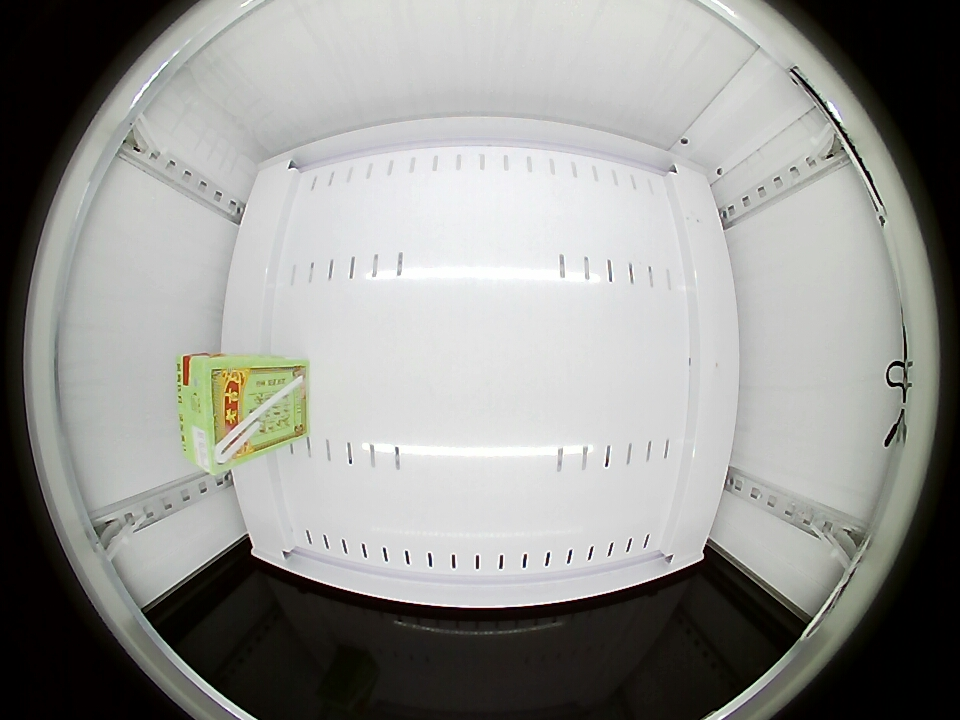wanglaoji: (177, 354, 254, 474)
